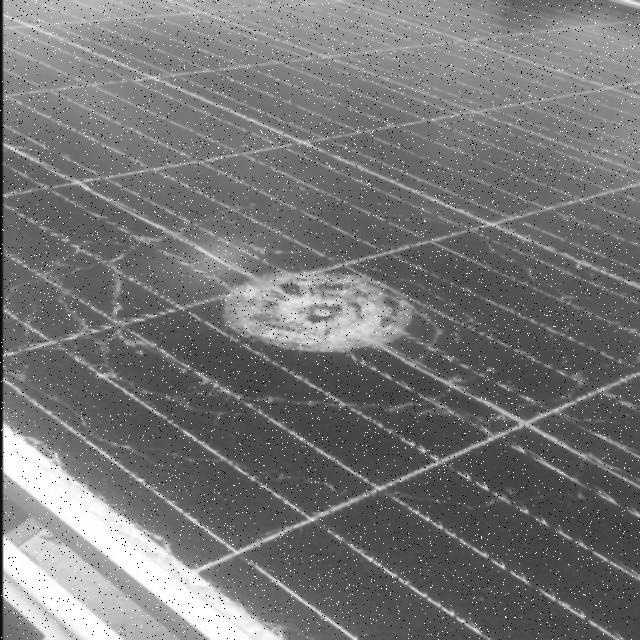physical damage: (92, 227, 540, 406)
